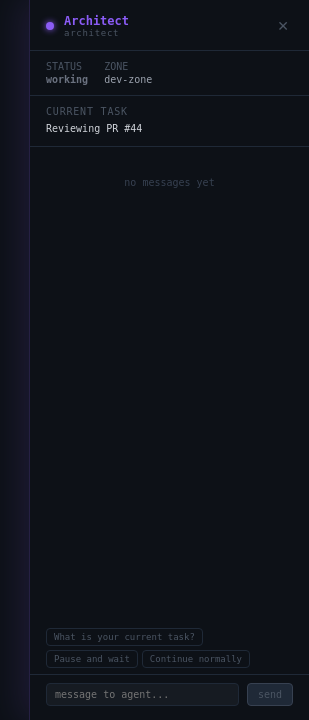
Test: AgentDetailPanel › sends message with fetch and shows it in history
The image size is (309, 720).
Step 1. Type "What is the task?" into the field labelled "message to agent" → (142, 694), box [46, 683, 239, 706]
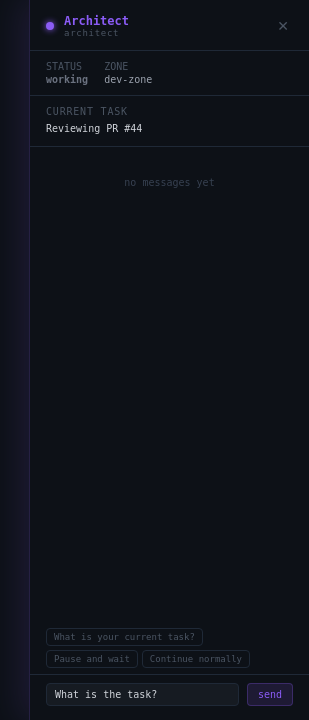
Step 2. Click the button with aria-label "send message" → (270, 694), box [247, 683, 293, 706]
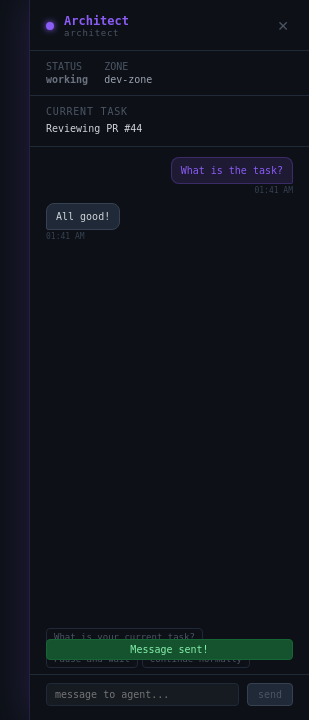
Check: the text "What is the task?" is shown, box [171, 157, 293, 184]
Check: the text "All good!" is shown, box [46, 203, 120, 230]
Check: the text "Message sent!" is shown, box [46, 639, 293, 660]
